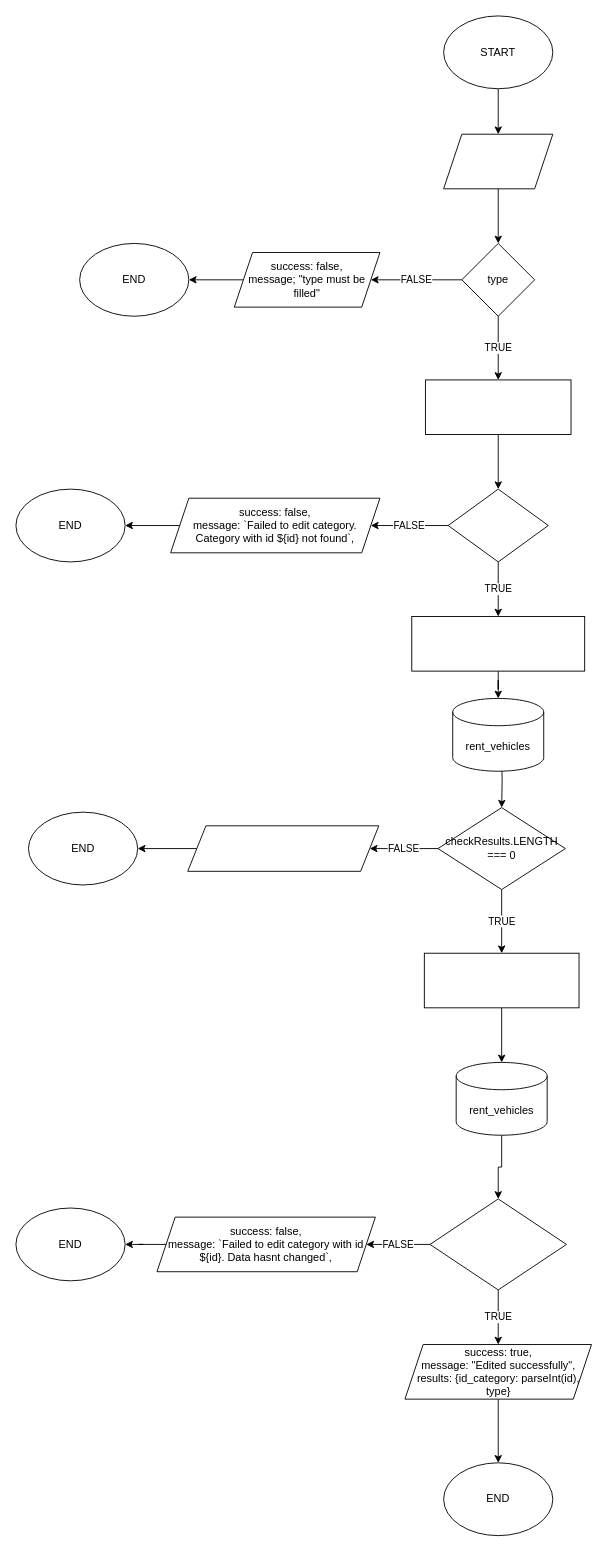
The diagram is 608 pixels wide and 1552 high, and some of its shapes have lost their labels. The centre of each missing label's shape, as x and y in pixels:
id type: the point at 498,161
MODEL categories.checkCategories(type, checkResults): the point at 498,643
MODEL categories.editCategory(type, id, results): the point at 501,980
MODEL categories.getCategory(id, resId): the point at 498,407
resId.LENGTH > 0: the point at 497,525
results.changedRows > 0: the point at 497,1244
success: false, message: `Failed to edit category. Type ${type} already exists`,: the point at 283,848
